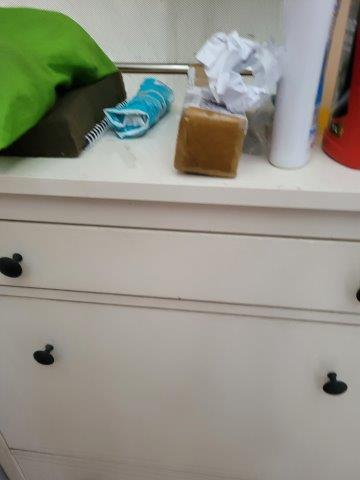kardus: (178, 101, 244, 190)
kertas: (195, 33, 286, 112)
